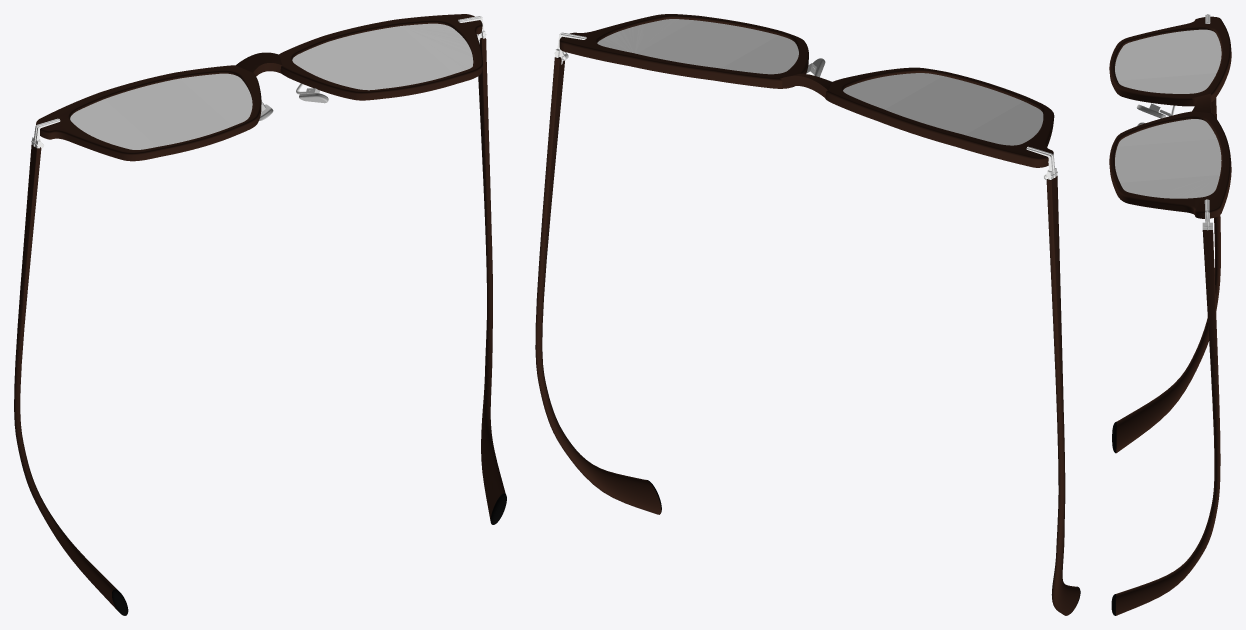
Rendered from clubmaster-brown.glb.
3 renders of one model, left to right at view 1: azimuth 30°, elevation 25°; view 2: azimuth 150°, elevation 25°; view 3: azimuth 270°, elevation 25°, orthographic. The views are drawn at different scales.
Visible parts, largest first — view 1: imagetostl_mesh0, imagetostl_mesh14, imagetostl_mesh5, imagetostl_mesh7; view 2: imagetostl_mesh0, imagetostl_mesh14; view 3: imagetostl_mesh0, imagetostl_mesh14, imagetostl_mesh5, imagetostl_mesh1, imagetostl_mesh7.
Boxes of the visible parts, box(x1,y1,x2,y2) form: imagetostl_mesh0: box(14, 14, 505, 610); imagetostl_mesh14: box(70, 23, 473, 149); imagetostl_mesh5: box(112, 92, 506, 615); imagetostl_mesh7: box(235, 52, 282, 76); imagetostl_mesh0: box(535, 14, 1079, 615); imagetostl_mesh14: box(597, 19, 1043, 145); imagetostl_mesh0: box(1109, 16, 1231, 615); imagetostl_mesh14: box(1115, 29, 1221, 198); imagetostl_mesh5: box(1111, 104, 1165, 615); imagetostl_mesh1: box(1149, 14, 1212, 230); imagetostl_mesh7: box(1192, 93, 1211, 112).
Size of the model in its own units: 2.24 by 2.15 by 0.5442.
5 materials, 5 textured.
